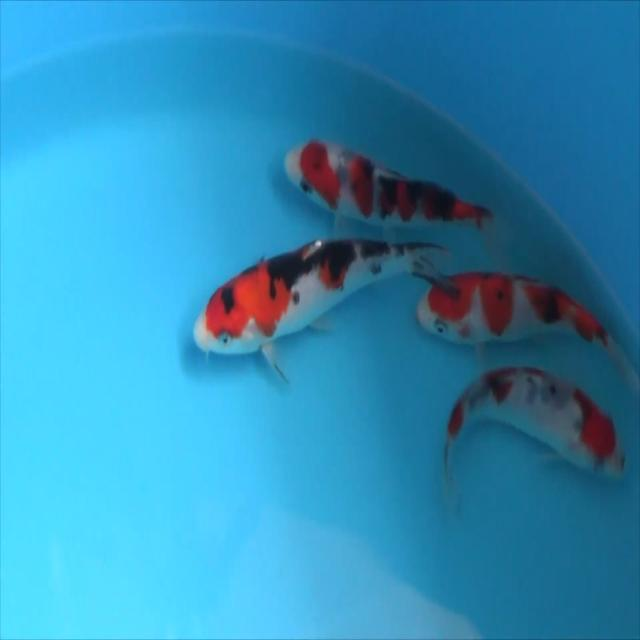Sanke: (192, 235, 450, 384), (414, 266, 638, 396), (442, 364, 626, 495), (284, 136, 494, 232)
